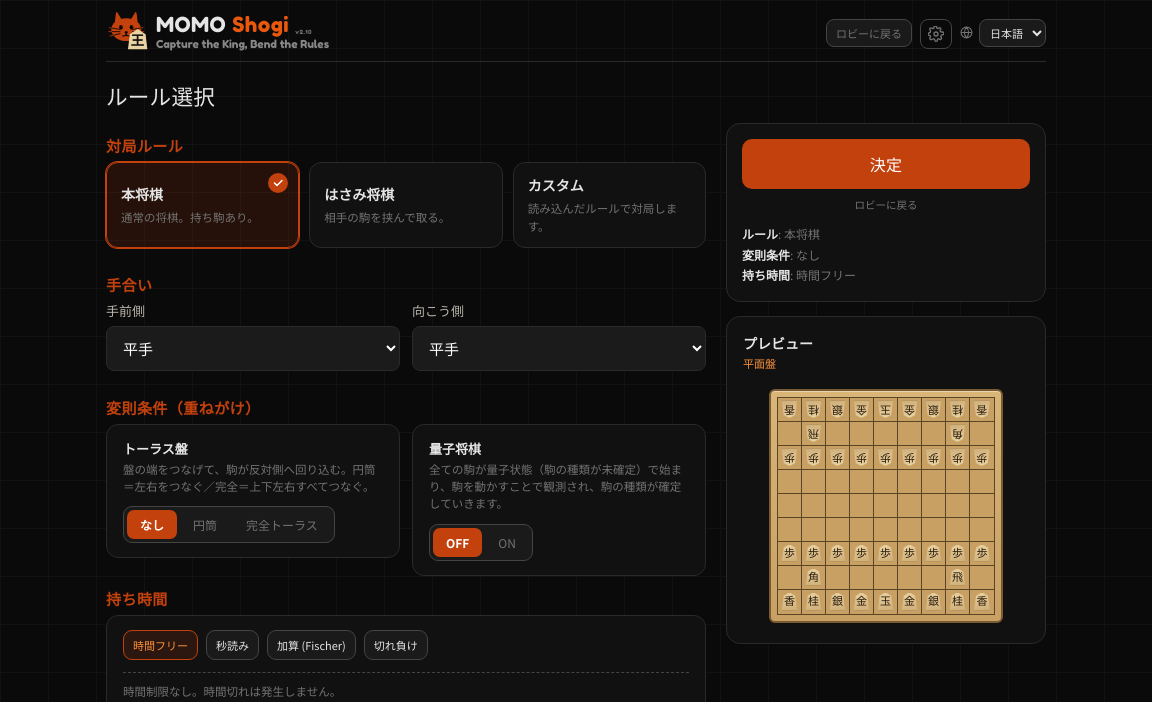
Test: S02 カスタムの札から読み込んだルールを選ぶ (仕様 S02 のルール一覧) › ★カスタムの札を押した瞬間に custom (チェスの定義つき) になり、一覧のチェスに印が付く
Click the text "カスタム".
click(556, 185)  # box [528,175,584,195]
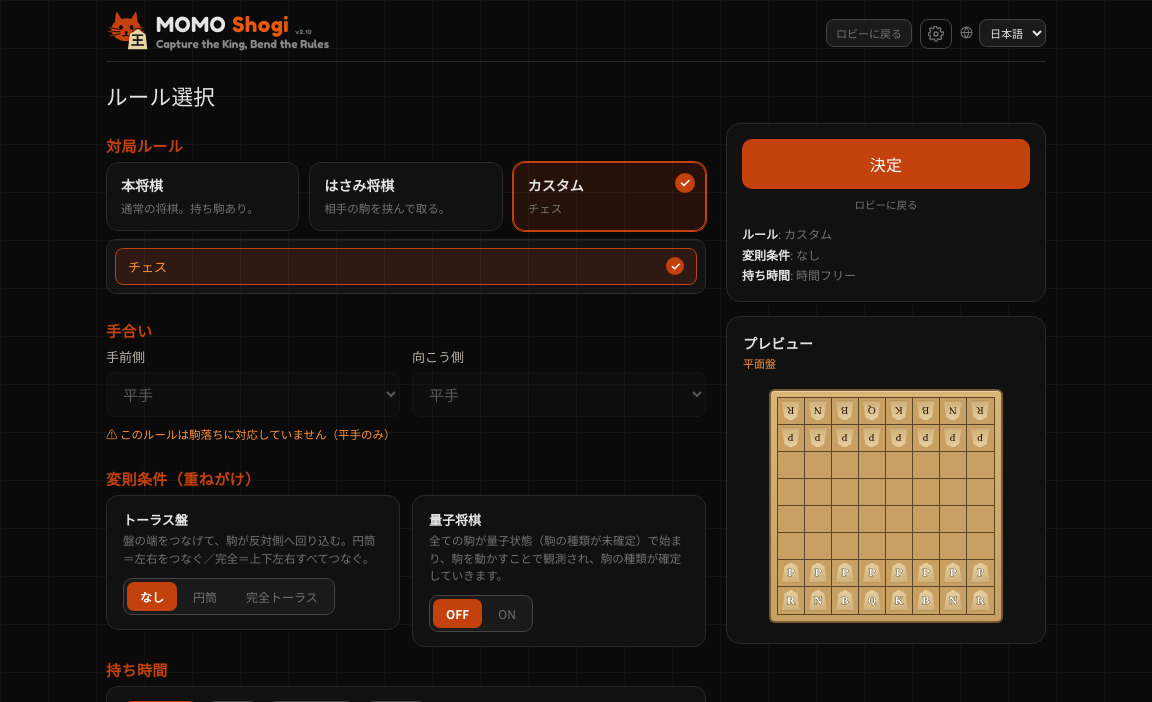
Expected: the text "チェス" is shown, [528,200,562,216]
Expected: the button with class "selected" reads "チェス", [115,248,697,285]
